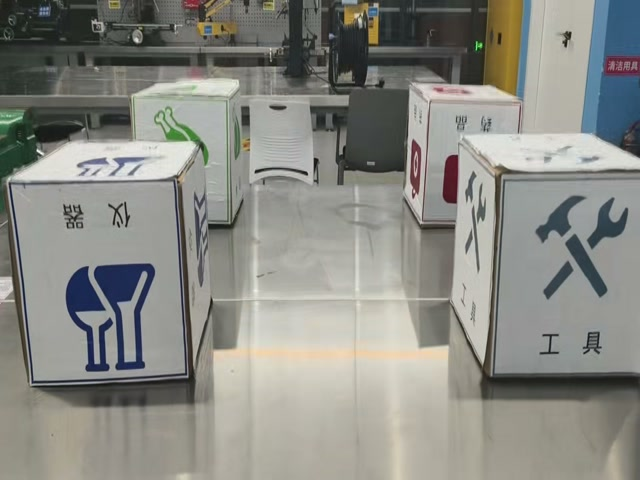Cube_food: (136, 82, 245, 103)
Cube_ins: (9, 138, 204, 185)
Cube_medicine: (415, 85, 522, 108)
Cube_tool: (463, 130, 640, 176)
